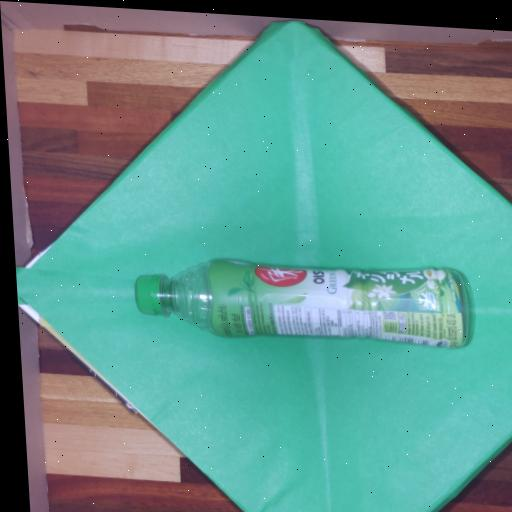bottle: (127, 244, 476, 353)
